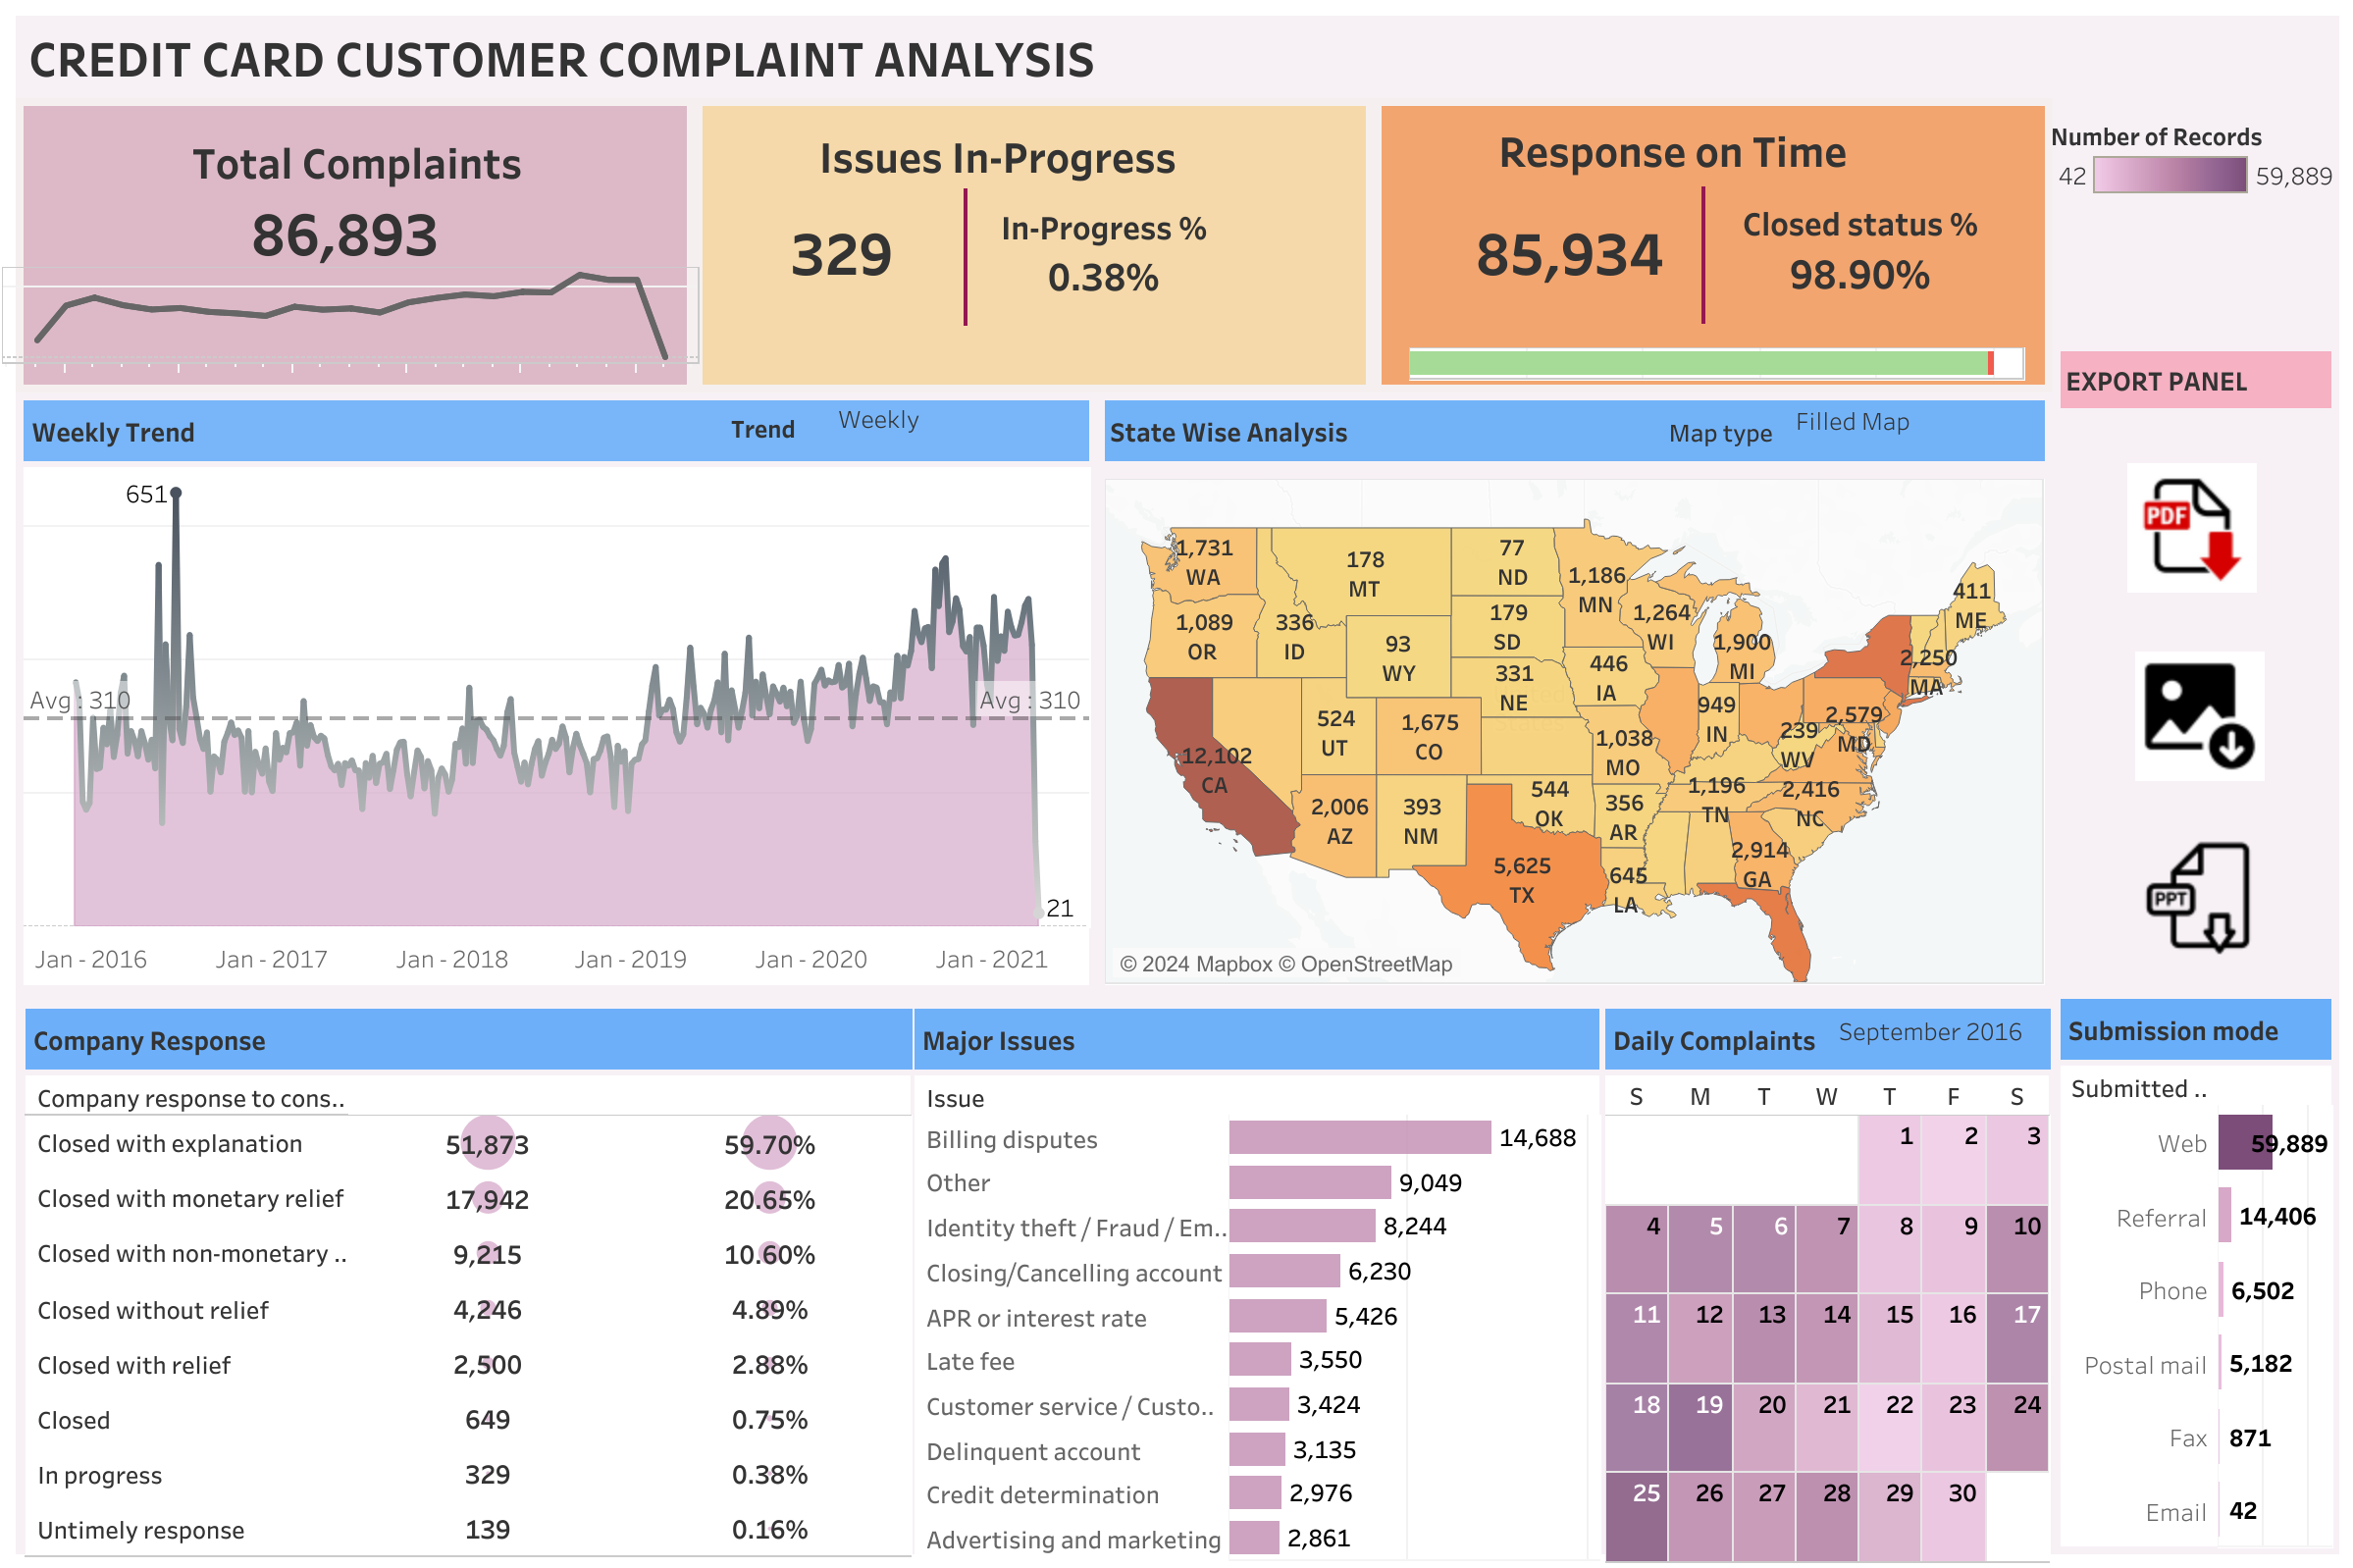

This screenshot's page, from the dashboard's own definition file:
{"tool":"tableau","page":{"name":"Dashboard 1","canvas":[1200,800],"ordinal":0},"visuals":[{"type":"title","box":[8,8,1038,41]},{"type":"blank","box":[1046,8,146,41]},{"type":"blank","box":[8,49,346,150]},{"type":"blank","box":[354,49,346,150]},{"type":"blank","box":[700,49,346,150]},{"type":"blank","box":[1046,49,146,48]},{"type":"legend","title":"Submission mode","param":"[federated.0q9frzi07vpods11dl5a40mp0u4v].[sum:Number of Records:qk]","box":[1045,56,149,50]},{"type":"text","box":[761,61,193,30]},{"type":"text","box":[377,64,263,30]},{"type":"text","box":[95,67,174,30]},{"type":"blank","box":[867,95,2,70]},{"type":"blank","box":[491,96,2,70]},{"type":"blank","box":[1046,97,146,77.5]},{"type":"worksheet","title":"Total Complaints","mark":"Automatic","box":[104,98,145,41]},{"type":"worksheet","title":"Status Closed Percentage","mark":"Automatic","box":[878,102,159,63]},{"type":"worksheet","title":"In-Progress %","mark":"Automatic","box":[503,104,144,66]},{"type":"worksheet","title":"Response on Time","mark":"Automatic","box":[739,106,122,45]},{"type":"worksheet","title":"Issues In-Progress","mark":"Automatic","box":[390,108,92,56]},{"type":"worksheet","title":"Complaints Forecast","mark":"Line","rows":["Number of Records","Number of Records"],"cols":["Date received"],"box":[1,136,356,60]},{"type":"text","box":[1046,174.5,146,37.5]},{"type":"worksheet","title":"Progress","mark":"Bar","cols":["Calculation_2764506494938038275","Calculation_2764506494936629249"],"box":[718,177,314,17]},{"type":"worksheet","title":"Trend","mark":"Automatic","rows":["Number of Records","Number of Records"],"cols":["Calculation_2764506495286251526"],"box":[8,199,551,306]},{"type":"text","box":[559,199,487,39]},{"type":"parameter","param":"[Parameters].[Parameter 1]","box":[353,204,197,27]},{"type":"parameter","param":"[Parameters].[Parameter 2]","box":[841,205,198,29]},{"type":"blank","box":[1046,212,146,293]},{"type":"dashboard-object","box":[1084,233,66,73]},{"type":"worksheet","title":"density chart","mark":"Heatmap","box":[559,238,487,1]},{"type":"worksheet","title":"Filled Map","mark":"Multipolygon","box":[559,239,487,266]},{"type":"dashboard-object","box":[1088,329,66,73]},{"type":"dashboard-object","box":[1087,421,66,73]},{"type":"worksheet","title":"Submission mode","mark":"Bar","rows":["Submitted via"],"cols":["Number of Records"],"box":[1046,505,146,287]},{"type":"worksheet","title":"Company Response","mark":"Pie","rows":["Company response to consumer"],"box":[13,514,452,280]},{"type":"worksheet","title":"Major Issues","mark":"Bar","rows":["Issue"],"cols":["Number of Records"],"box":[466,514,349,281]},{"type":"worksheet","title":"Calendar","mark":"Square","rows":["Date received"],"cols":["Date received"],"box":[818,514,227,283]},{"type":"filter","title":"Calendar","param":"[federated.0q9frzi07vpods11dl5a40mp0u4v].[my:Date received:ok]","box":[935,516,106,27]}]}

Visuals, with their boxes in screenshot pixels (x1, y1, x2, y2), scaled from the page's 1200x800 canvas onto the 2353x1568 screenshot:
title: <bbox>16, 16, 2051, 96</bbox>
blank: <bbox>2051, 16, 2337, 96</bbox>
blank: <bbox>16, 96, 694, 391</bbox>
blank: <bbox>694, 96, 1373, 391</bbox>
blank: <bbox>1373, 96, 2051, 391</bbox>
blank: <bbox>2051, 96, 2337, 190</bbox>
"Submission mode" legend: <bbox>2049, 110, 2341, 208</bbox>
text: <bbox>1492, 120, 1870, 179</bbox>
text: <bbox>739, 126, 1255, 184</bbox>
text: <bbox>186, 131, 528, 190</bbox>
blank: <bbox>1700, 186, 1704, 324</bbox>
blank: <bbox>963, 188, 967, 326</bbox>
blank: <bbox>2051, 190, 2337, 342</bbox>
"Total Complaints" worksheet: <bbox>204, 192, 489, 273</bbox>
"Status Closed Percentage" worksheet: <bbox>1722, 200, 2033, 324</bbox>
"In-Progress %" worksheet: <bbox>986, 204, 1269, 334</bbox>
"Response on Time" worksheet: <bbox>1449, 208, 1689, 296</bbox>
"Issues In-Progress" worksheet: <bbox>764, 212, 945, 322</bbox>
"Complaints Forecast" worksheet (Line marks): <bbox>2, 267, 700, 385</bbox>
text: <bbox>2051, 342, 2337, 415</bbox>
"Progress" worksheet (Bar marks): <bbox>1408, 347, 2023, 381</bbox>
"Trend" worksheet: <bbox>16, 391, 1096, 990</bbox>
text: <bbox>1096, 391, 2051, 466</bbox>
parameter: <bbox>692, 399, 1078, 452</bbox>
parameter: <bbox>1649, 401, 2037, 458</bbox>
blank: <bbox>2051, 415, 2337, 990</bbox>
dashboard-object: <bbox>2125, 456, 2255, 600</bbox>
"density chart" worksheet (Heatmap marks): <bbox>1096, 466, 2051, 468</bbox>
"Filled Map" worksheet (Multipolygon marks): <bbox>1096, 468, 2051, 990</bbox>
dashboard-object: <bbox>2133, 645, 2263, 788</bbox>
dashboard-object: <bbox>2131, 825, 2261, 968</bbox>
"Submission mode" worksheet (Bar marks): <bbox>2051, 990, 2337, 1552</bbox>
"Company Response" worksheet (Pie marks): <bbox>26, 1008, 912, 1556</bbox>
"Major Issues" worksheet (Bar marks): <bbox>914, 1008, 1598, 1558</bbox>
"Calendar" worksheet (Square marks): <bbox>1604, 1008, 2049, 1562</bbox>
"Calendar" filter: <bbox>1833, 1012, 2041, 1065</bbox>
